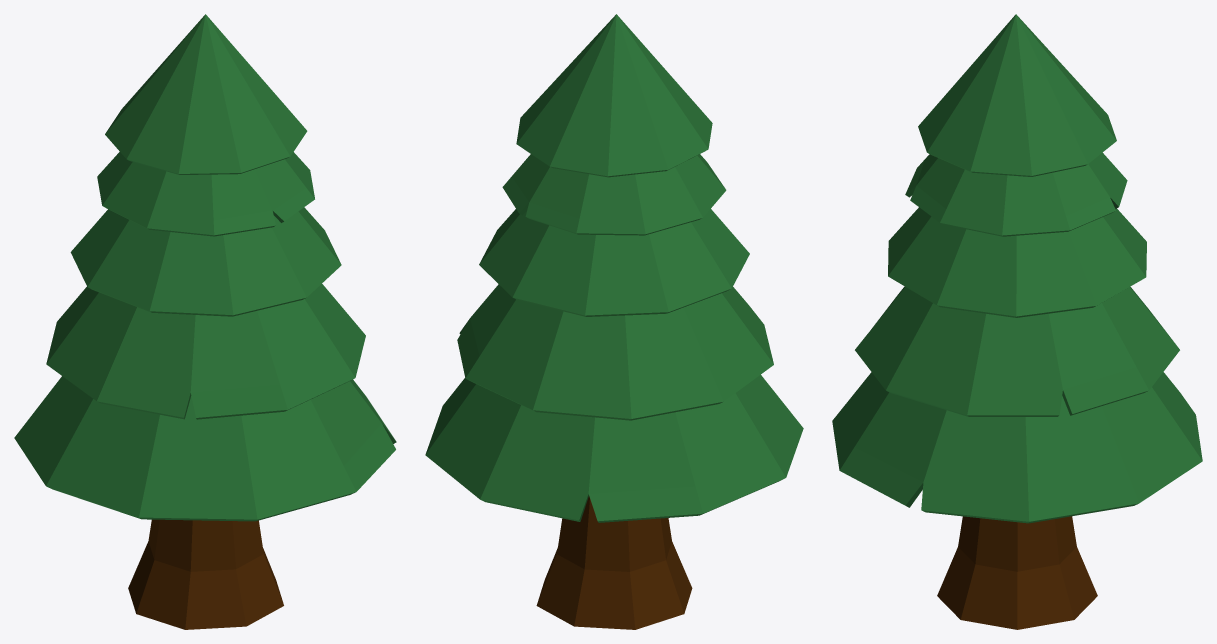
File: three3.glb
The picture shows the model from 3 angles, left to right: view 1: azimuth 30°, elevation 25°; view 2: azimuth 150°, elevation 25°; view 3: azimuth 270°, elevation 25°; orthographic projection.
Parts seen in each view (by area): view 1: tree3.005; view 2: tree3.005; view 3: tree3.005.
Boxes of the visible parts, x1,y1,x2,y2 form: tree3.005: (14, 14, 396, 629); tree3.005: (425, 14, 803, 629); tree3.005: (832, 14, 1202, 629).
Size of the model in its own units: 1.42 by 2.38 by 1.38.
